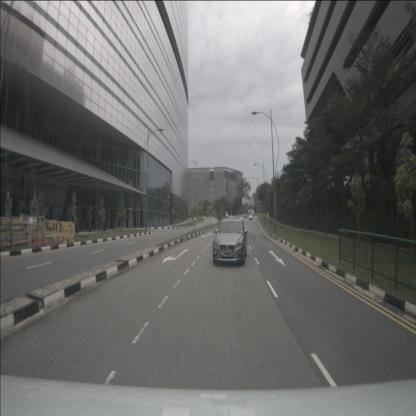cone: (38, 230, 43, 248), (33, 230, 38, 248), (28, 232, 33, 249), (41, 230, 46, 246), (53, 230, 58, 244), (57, 230, 61, 245)
